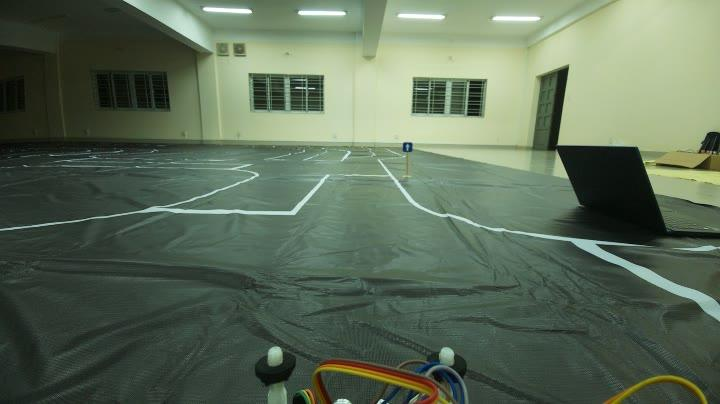onewayroad: (398, 138, 419, 158)
